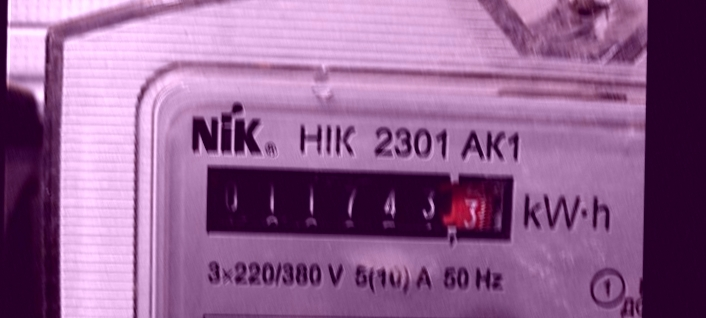0: (221, 178, 240, 214)
1: (304, 180, 319, 215), (267, 180, 277, 213)
3: (418, 185, 437, 221), (461, 198, 480, 232)
4: (381, 185, 398, 219)
7: (342, 183, 360, 217)
screen: (191, 154, 527, 254)
